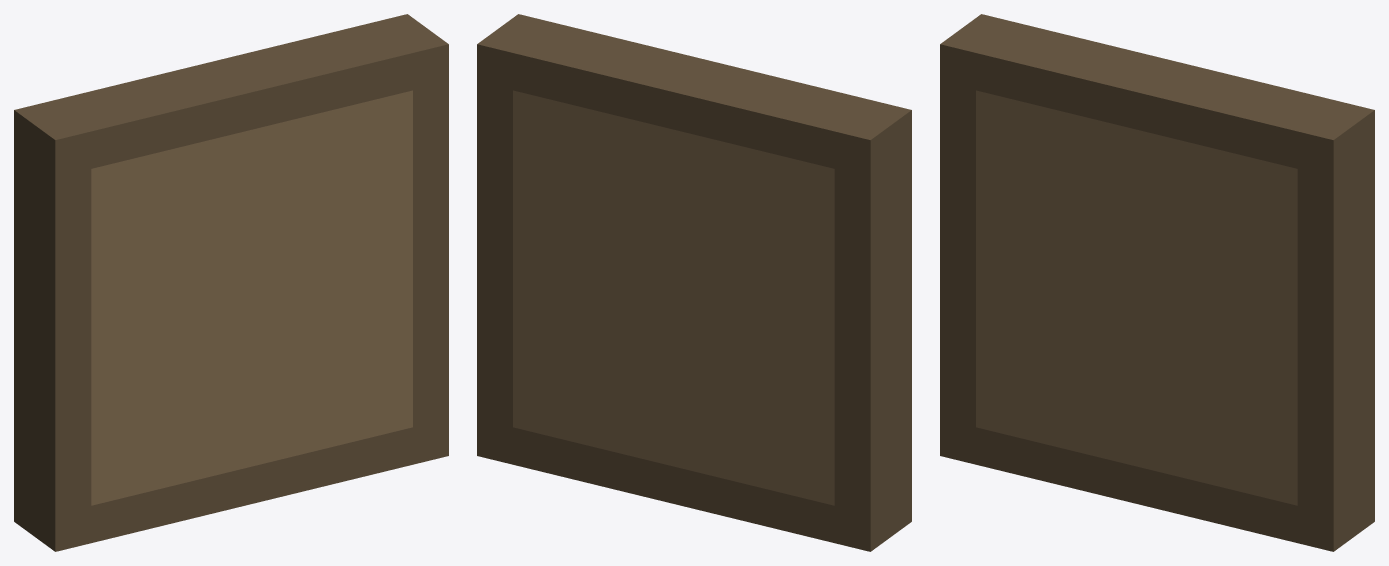
The model's file is estante_jarras_roble_01.glb.
3 views of the same model, side by side, from view 1: azimuth 30°, elevation 25°; view 2: azimuth 150°, elevation 25°; view 3: azimuth 330°, elevation 25° (orthographic).
Parts seen in each view (by area): view 1: estante_jarras_roble; view 2: estante_jarras_roble; view 3: estante_jarras_roble.
Part boxes in pixels (bbox=[...]): estante_jarras_roble: bbox=[14, 14, 448, 551]; estante_jarras_roble: bbox=[477, 14, 911, 551]; estante_jarras_roble: bbox=[940, 14, 1374, 551].
Bounding box in the file's own units: 1 × 1 × 0.1818.
